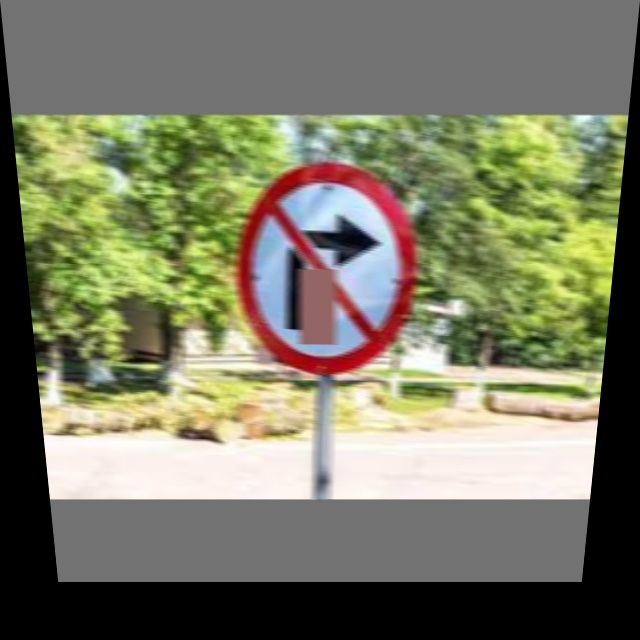Right_Turn_Prohibited: (231, 159, 418, 370)
